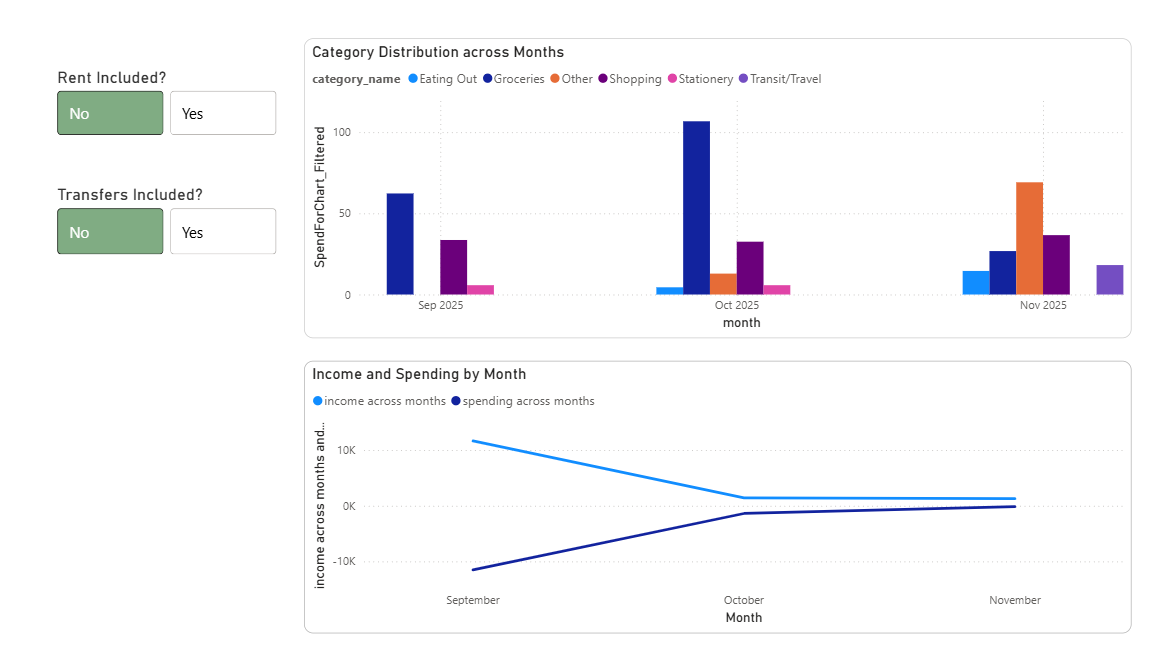

What the dashboard file says about the page in this screenshot:
{"tool":"powerbi","page":{"name":"Page 3","canvas":[1280,720],"ordinal":1},"visuals":[{"type":"lineChart","title":"Income and Spending by Month","fields":{"Category":["public monthly_summary_with_pct.month.Variation.Date Hierarchy.Month"],"Y":["public monthly_summary_with_pct.income_all_months","public monthly_summary_with_pct.spending"]},"box":[336.1,399,896.3,295.1],"z":0},{"type":"clusteredColumnChart","title":"Category Distribution across Months","fields":{"Category":["public spend_per_category_per_month.month"],"Series":["public spend_per_category_per_month.category_name"],"Y":["public spend_per_category_per_month.SpendForChart_Filtered"]},"box":[336.1,50.6,896.3,325.2],"z":1000},{"type":"advancedSlicerVisual","title":"Rent Included?","fields":{"Values":["toggle_rent_page2.label"]},"box":[63.8,81.3,247.1,79.7],"z":2000},{"type":"advancedSlicerVisual","title":"Transfers Included?","fields":{"Values":["toggle_transfers_page2.label"]},"box":[63.8,208.9,247.1,81.3],"z":3000}]}

Visuals, with their boxes in screenshot pixels (x1, y1, x2, y2), scaled from the page's 1280x720 canvas onto the 1170x657 screenshot:
"Income and Spending by Month" lineChart: bbox=[307, 364, 1126, 633]
"Category Distribution across Months" clusteredColumnChart: bbox=[307, 46, 1126, 343]
"Rent Included?" advancedSlicerVisual: bbox=[58, 74, 284, 147]
"Transfers Included?" advancedSlicerVisual: bbox=[58, 191, 284, 265]
